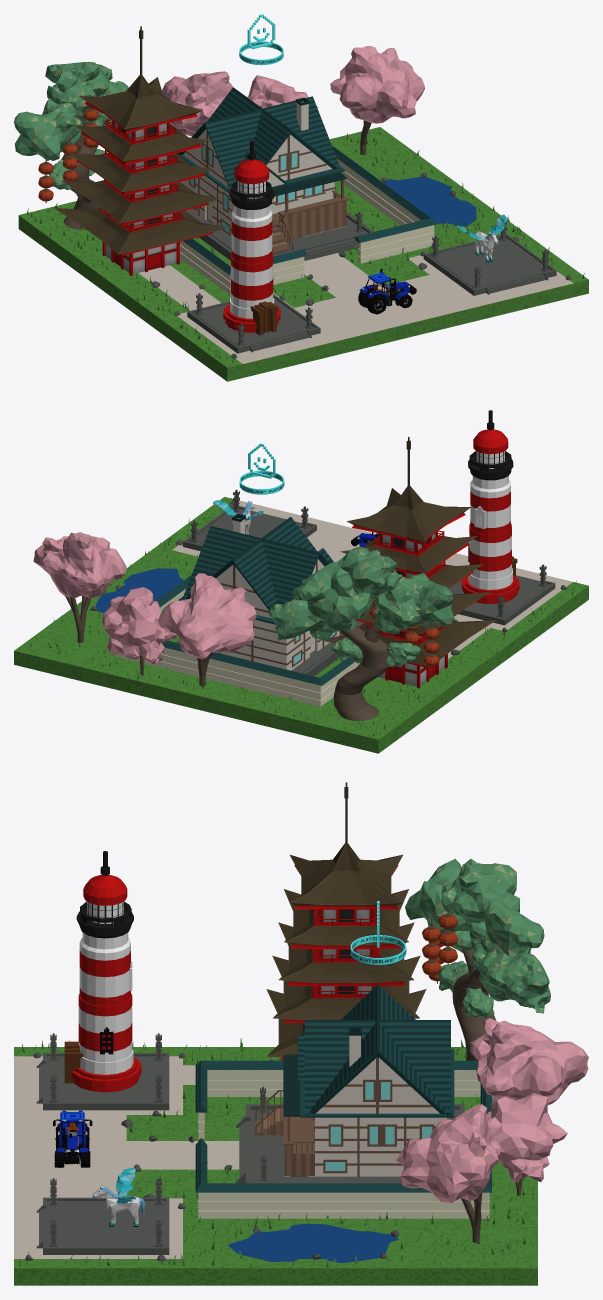
The picture shows the model from 3 angles, top to bottom: view 1: azimuth 30°, elevation 25°; view 2: azimuth 150°, elevation 25°; view 3: azimuth 270°, elevation 25°; orthographic projection. The views are drawn at different scales.
Parts seen in each view (by area): view 1: Cube.005, Cube.793, OBJRANDOM_LIGHTHOUSE, VEHICLES_TRACTOR, TYPE_PREMIUM, ANIMAL_PEGASO; view 2: Cube.005, Cube.793, OBJRANDOM_LIGHTHOUSE, TYPE_PREMIUM, ANIMAL_PEGASO; view 3: Cube.005, Cube.793, OBJRANDOM_LIGHTHOUSE, VEHICLES_TRACTOR, ANIMAL_PEGASO, TYPE_PREMIUM.
Part boxes in pixels (x1,y1,x2,y2): Cube.005: (14, 26, 588, 381); Cube.793: (176, 87, 349, 254); OBJRANDOM_LIGHTHOUSE: (223, 140, 280, 335); VEHICLES_TRACTOR: (358, 268, 416, 314); TYPE_PREMIUM: (239, 14, 283, 65); ANIMAL_PEGASO: (457, 214, 507, 262); Cube.005: (14, 437, 588, 753); Cube.793: (178, 513, 341, 670); OBJRANDOM_LIGHTHOUSE: (461, 410, 519, 603); TYPE_PREMIUM: (239, 443, 284, 494); ANIMAL_PEGASO: (213, 500, 263, 535); Cube.005: (14, 782, 588, 1285); Cube.793: (255, 985, 454, 1176); OBJRANDOM_LIGHTHOUSE: (64, 851, 141, 1092); VEHICLES_TRACTOR: (53, 1110, 92, 1167); ANIMAL_PEGASO: (92, 1167, 144, 1226); TYPE_PREMIUM: (350, 901, 406, 964).
Size of the model in its own units: 4528 by 2698 by 4389.
40 materials, 7 textured.
